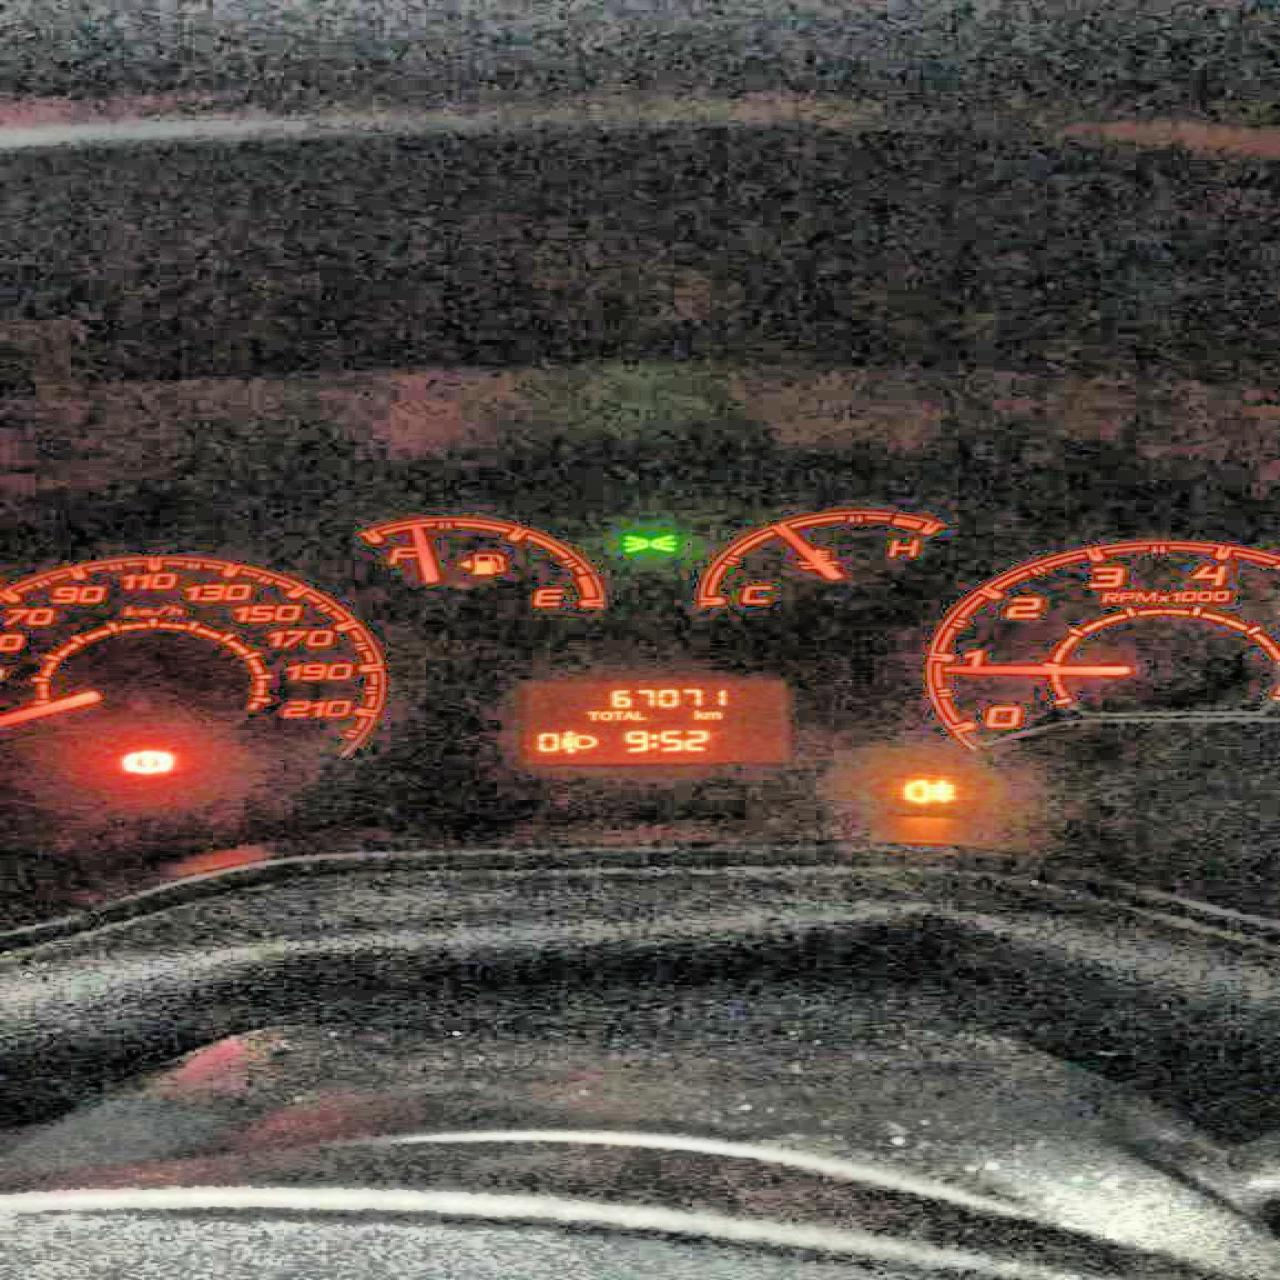0: (535, 730, 557, 753), (654, 688, 676, 707)
1: (716, 686, 728, 706)
2: (683, 728, 708, 750)
5: (659, 729, 681, 751)
6: (610, 688, 629, 708)
7: (683, 686, 701, 706), (635, 688, 652, 707)
9: (624, 729, 648, 753)
X: (647, 731, 656, 749), (689, 709, 703, 720), (703, 710, 721, 719), (597, 710, 611, 720), (586, 710, 597, 720), (610, 710, 621, 719), (633, 710, 644, 719), (624, 710, 633, 719)
odometer: (517, 678, 792, 763)
